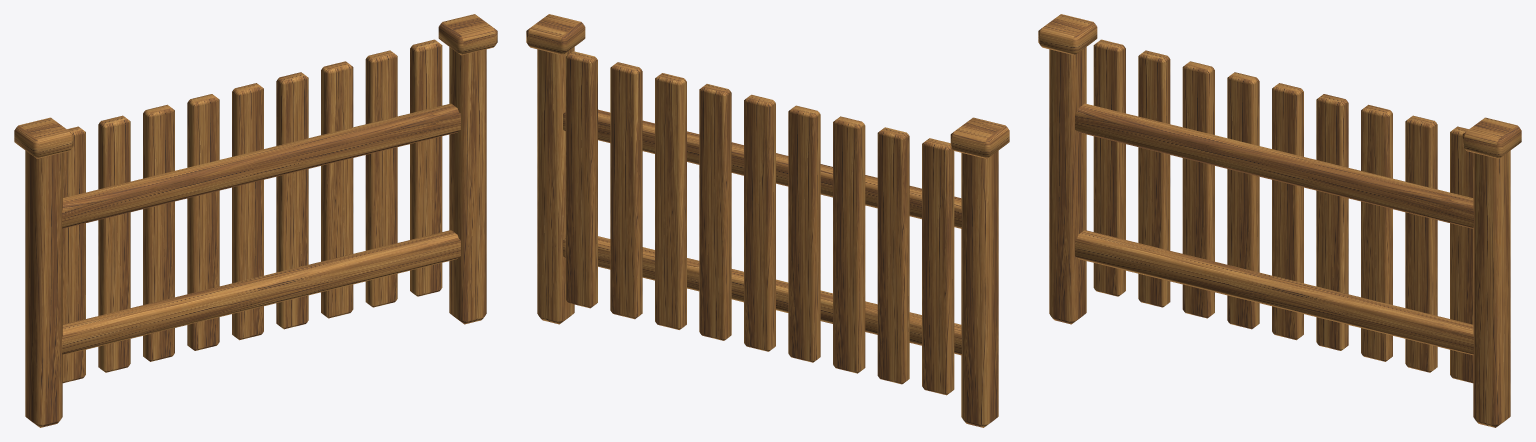
The model's file is 09_Valla_Tablillas.obj.
The picture shows the model from 3 angles, left to right: view 1: azimuth 30°, elevation 25°; view 2: azimuth 150°, elevation 25°; view 3: azimuth 330°, elevation 25°; orthographic projection.
Parts seen in each view (by area): view 1: 09_Valla_Tablillas_Wood; view 2: 09_Valla_Tablillas_Wood; view 3: 09_Valla_Tablillas_Wood.
Boxes of the visible parts, <box> form: 09_Valla_Tablillas_Wood: <box>14,14,497,427</box>; 09_Valla_Tablillas_Wood: <box>526,14,1009,427</box>; 09_Valla_Tablillas_Wood: <box>1038,14,1521,427</box>.
Bounding box in the file's own units: 2.19 × 1.33 × 0.1925.
Materials: 1 (1 with a texture image).
